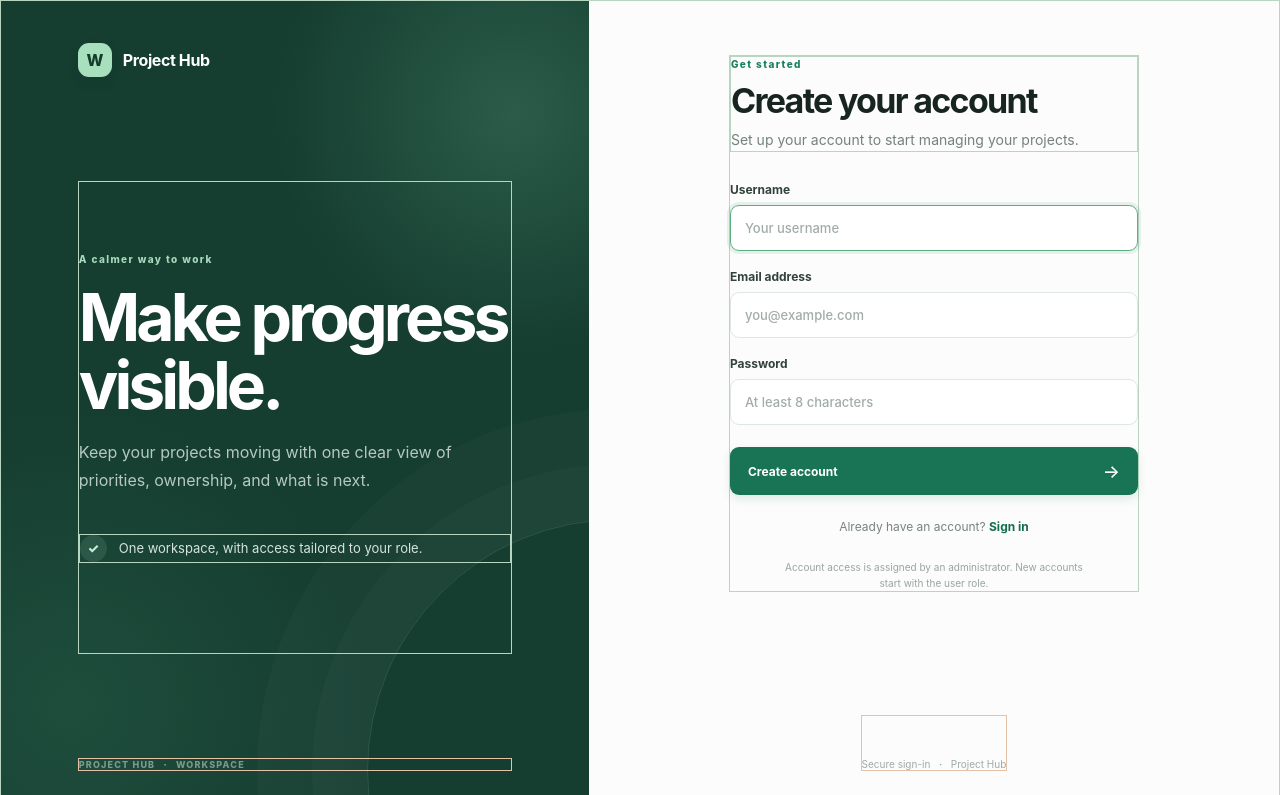
it: authentication › registers the entered account and opens its workspace
Type " member " into the field labelled "Username" at (934, 228), box [730, 205, 1138, 251]
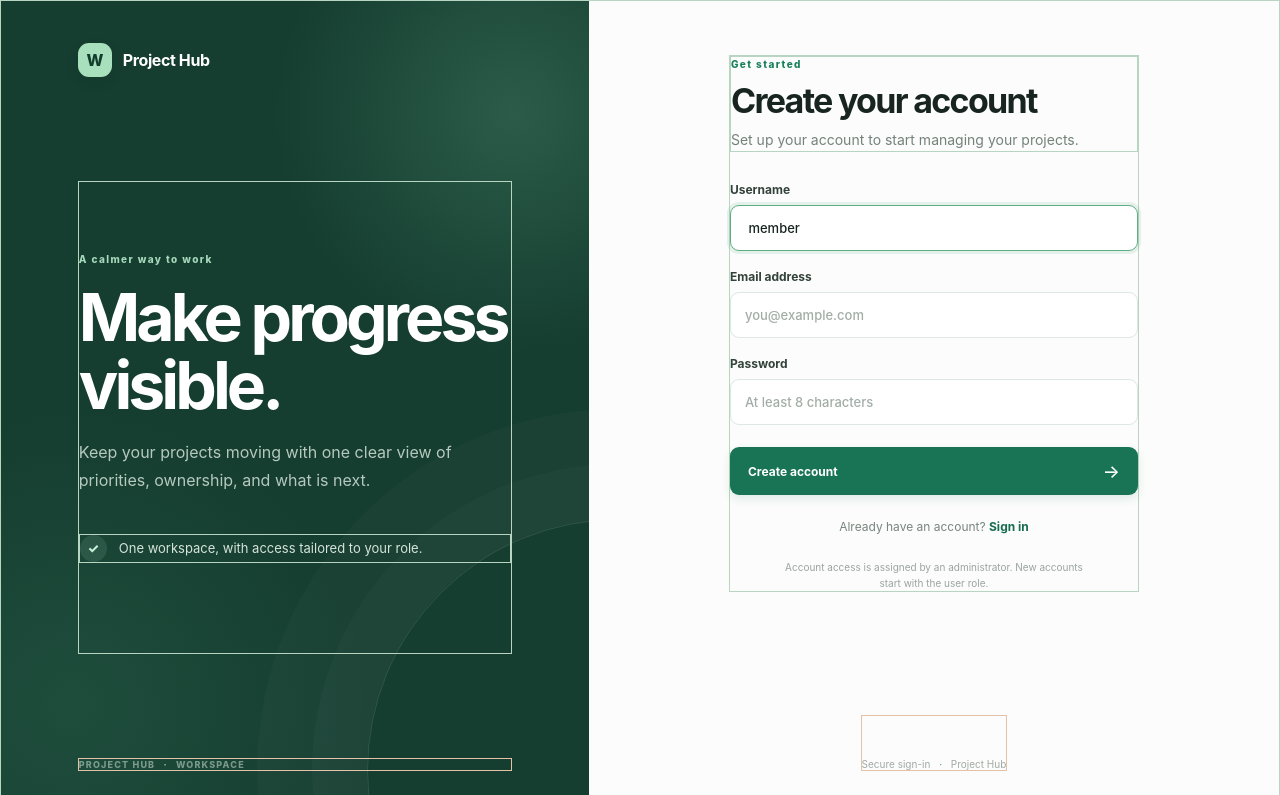
Type "member@example.com" into the field labelled "Email address" at (934, 315), box [730, 292, 1138, 338]
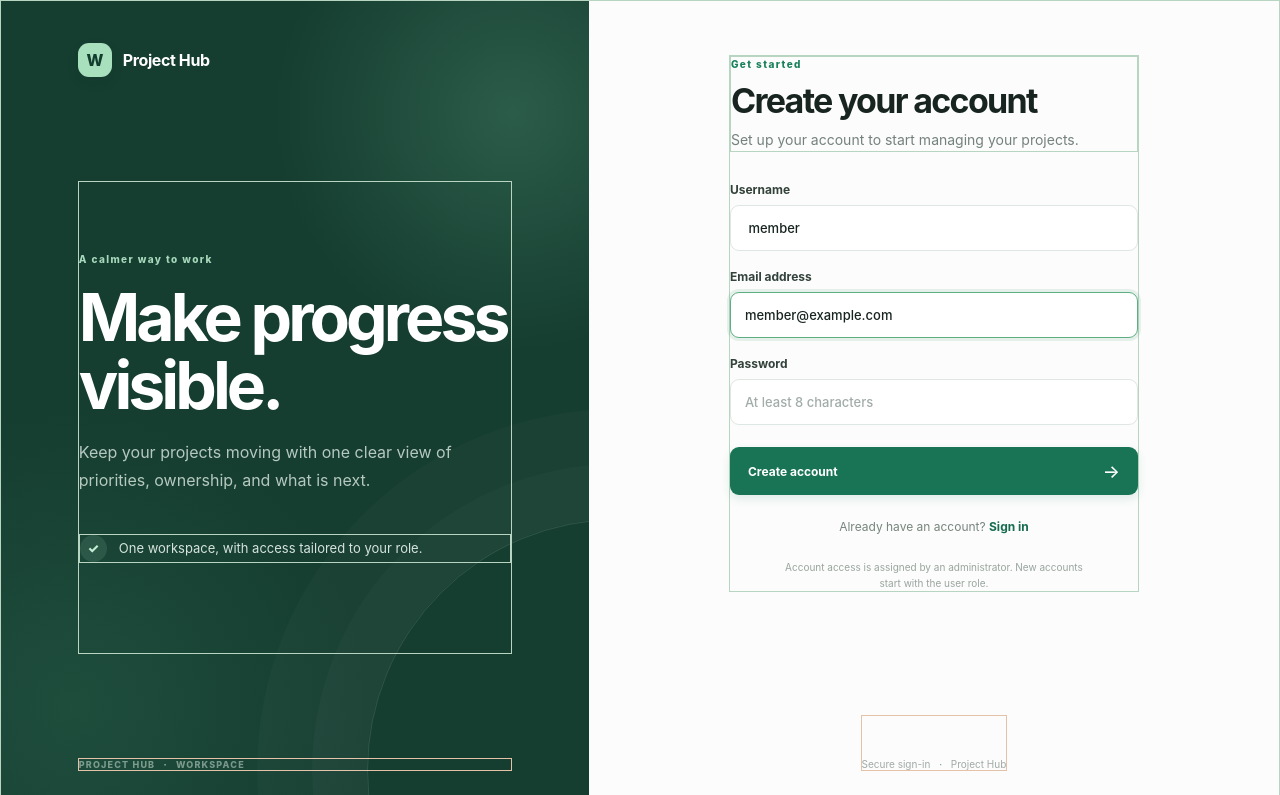
Type "secure-password" into the password field labelled "Password" at (934, 402), box [730, 379, 1138, 425]
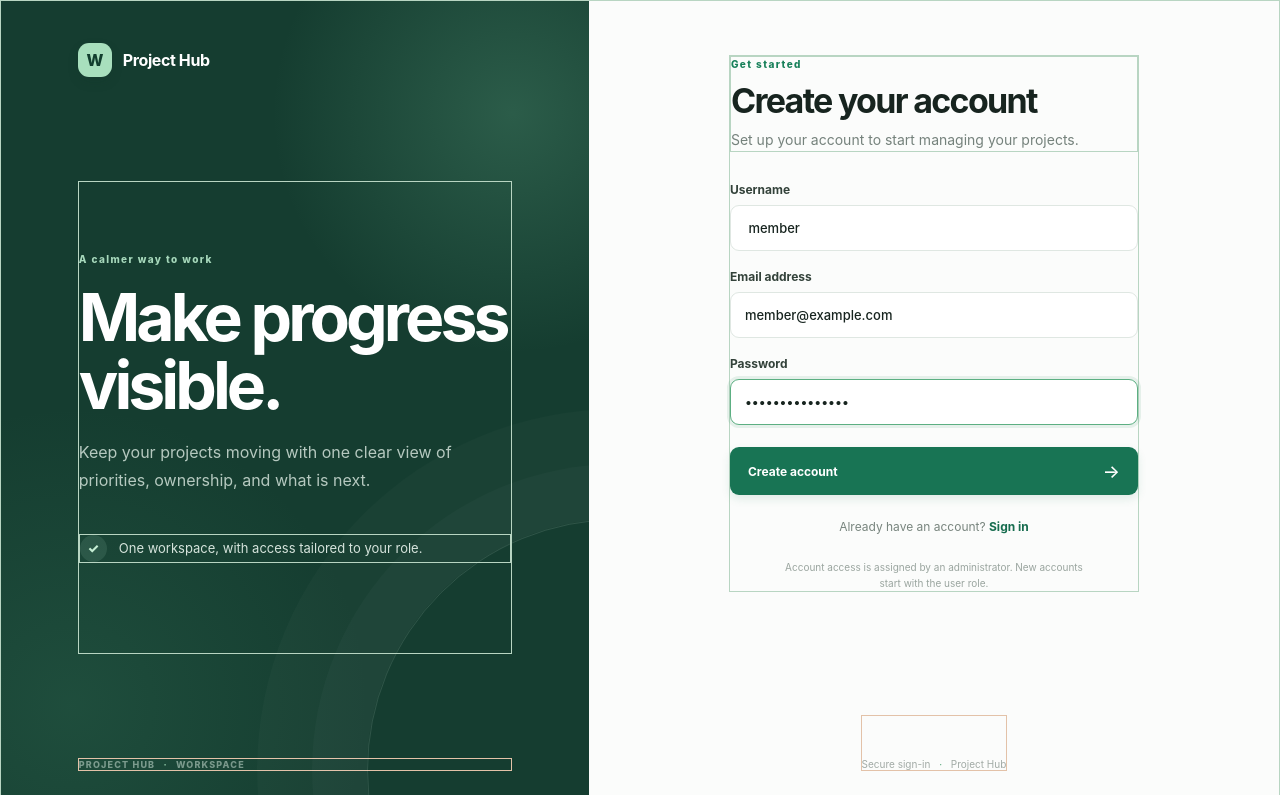
Click the button "Create account →" at (793, 471), box [730, 447, 1138, 495]
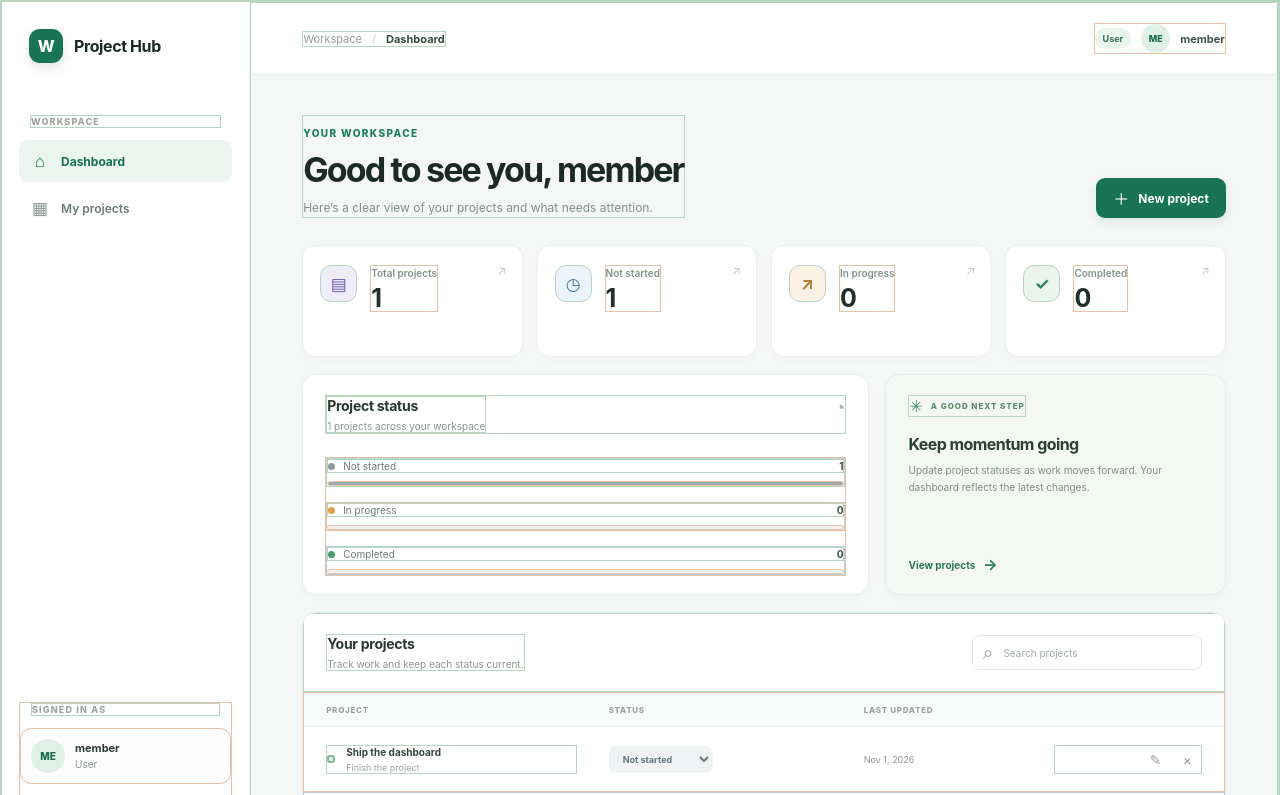
Now the heading "Good to see you, member" is shown, box [303, 150, 684, 189]
Now the text "Ship the dashboard" is shown, box [346, 746, 441, 758]
